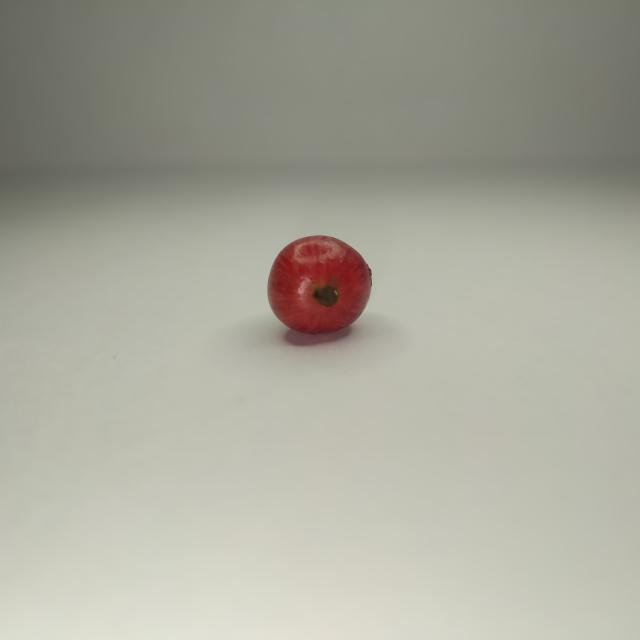Infectado: (269, 236, 371, 334)
